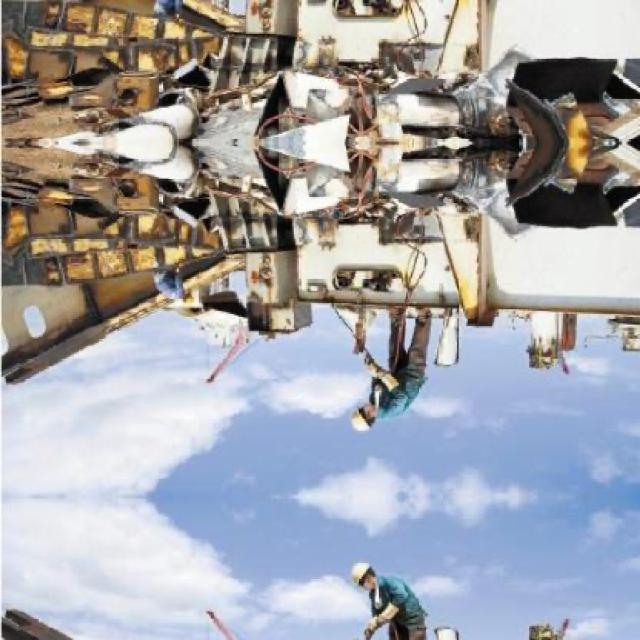con casco: (337, 383, 389, 447)
